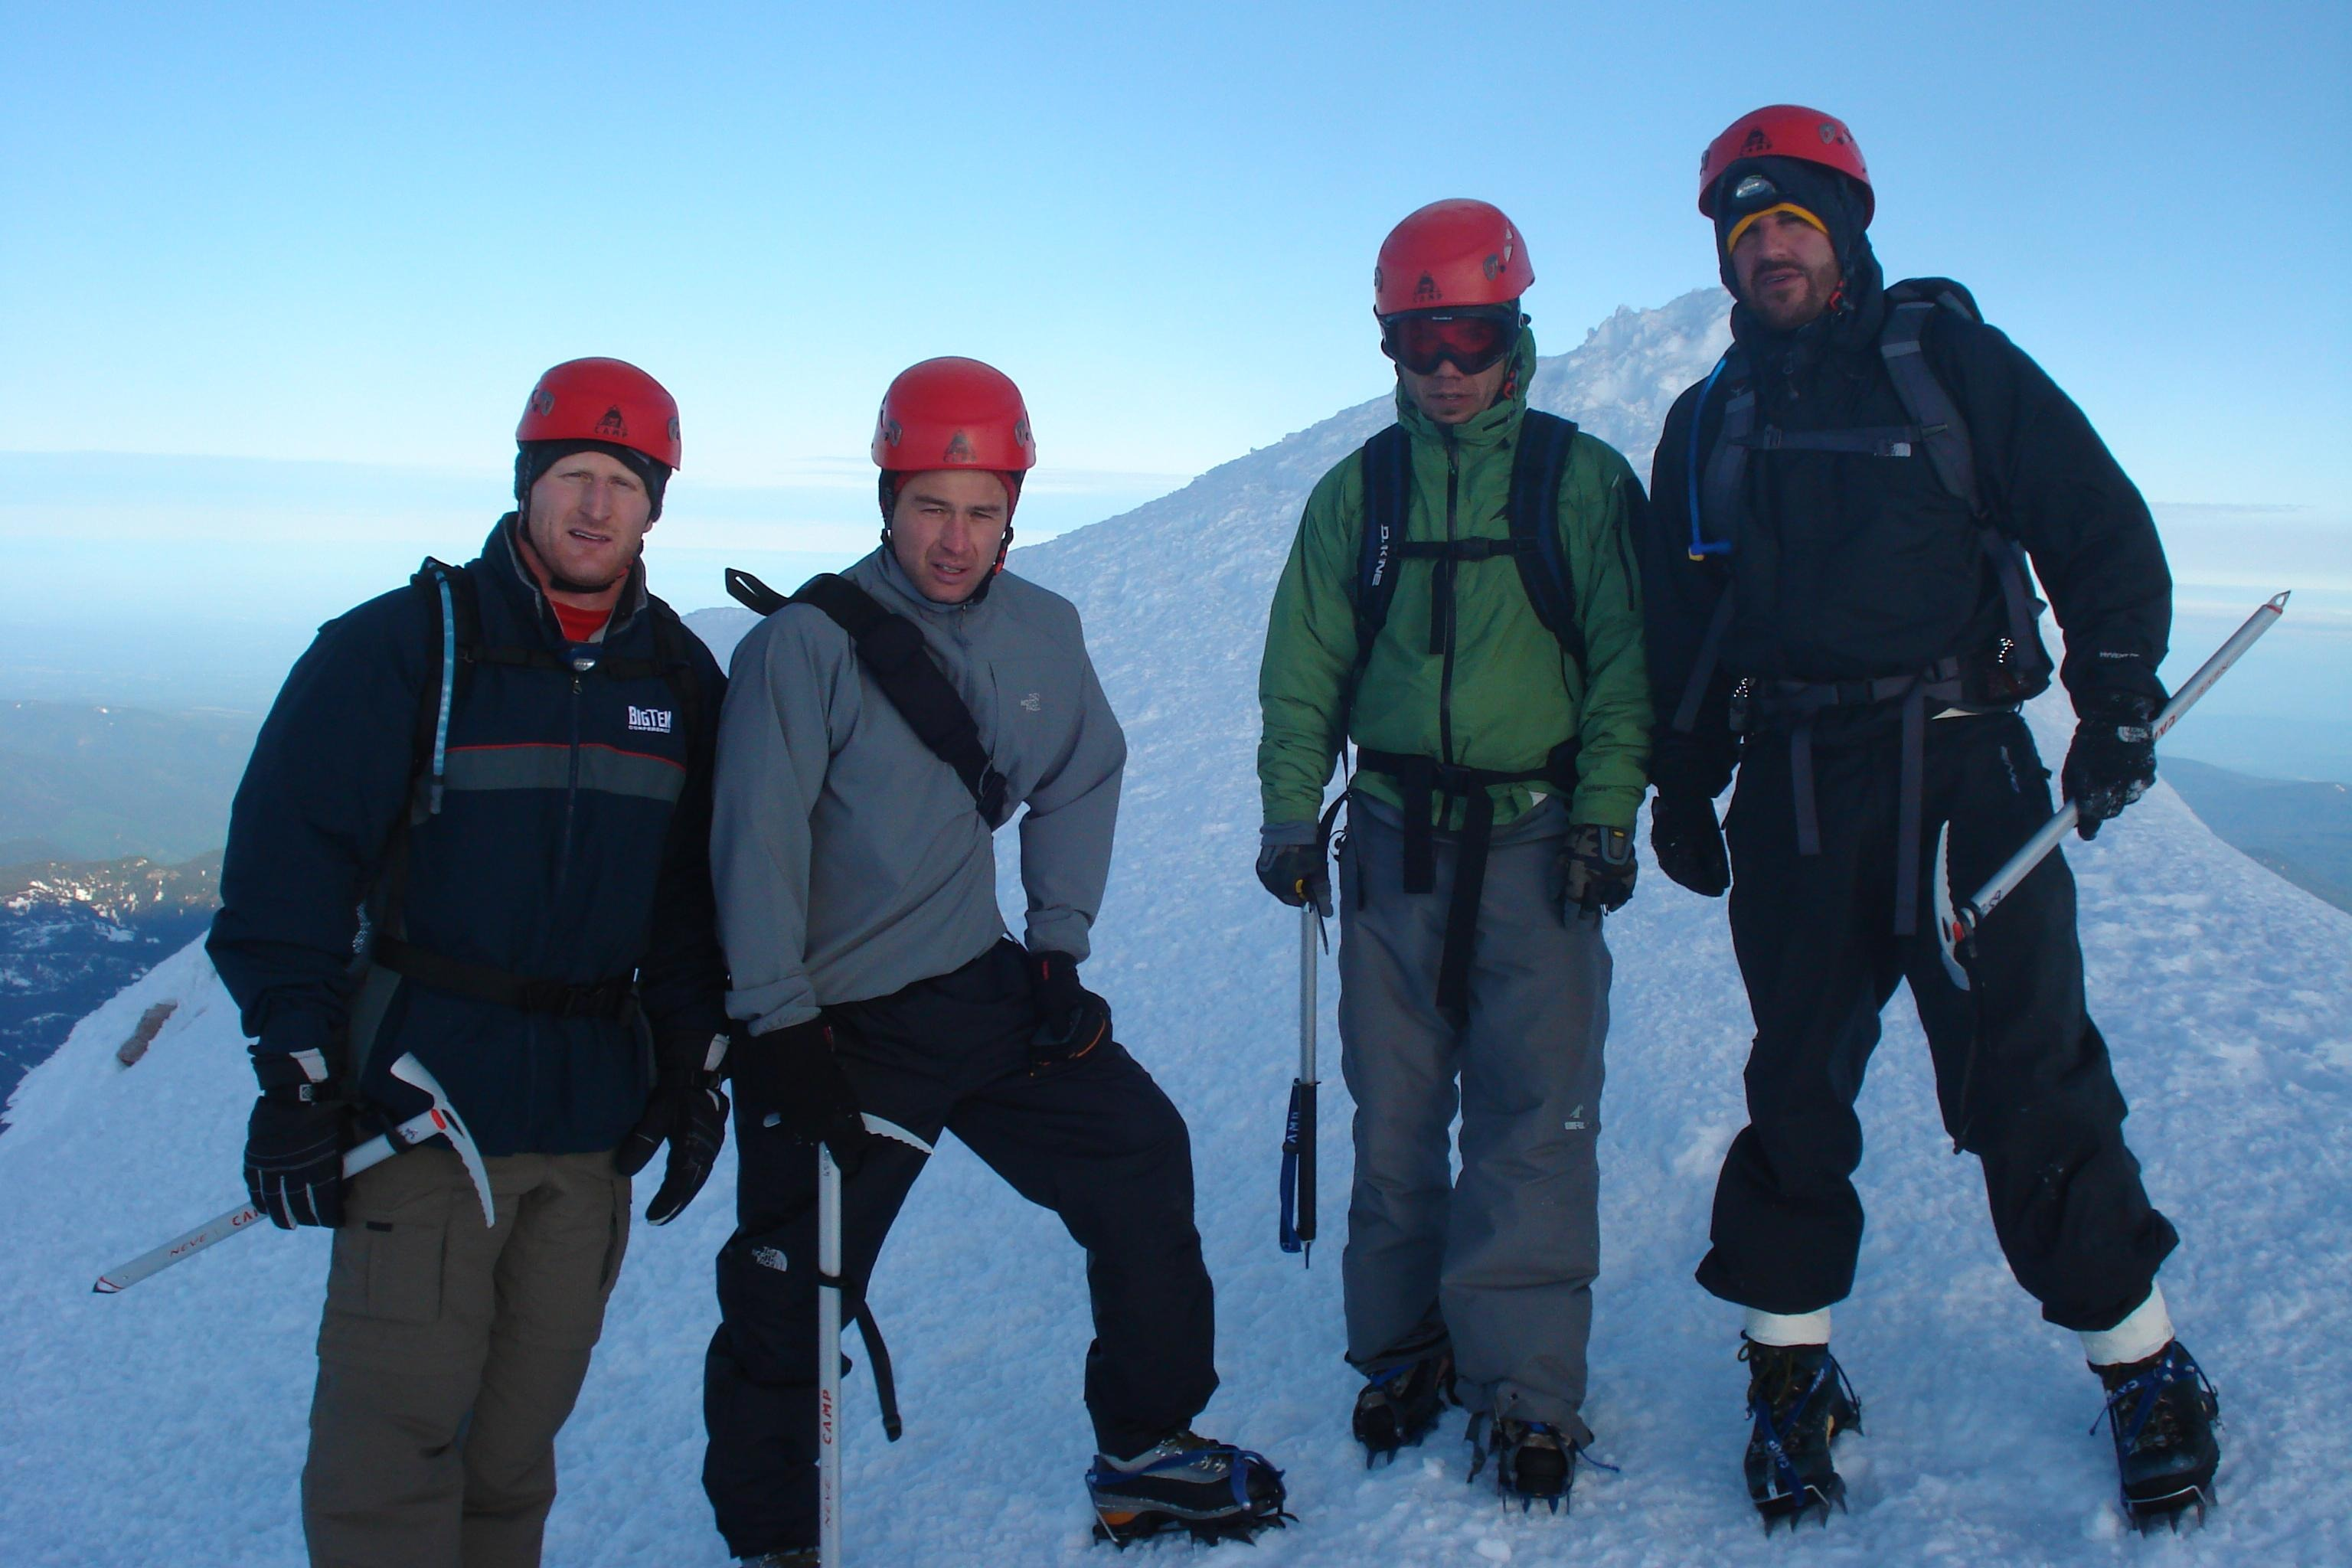helmet: (499, 345, 698, 481), (857, 341, 1046, 485), (1360, 184, 1542, 327), (1690, 94, 1879, 226)
